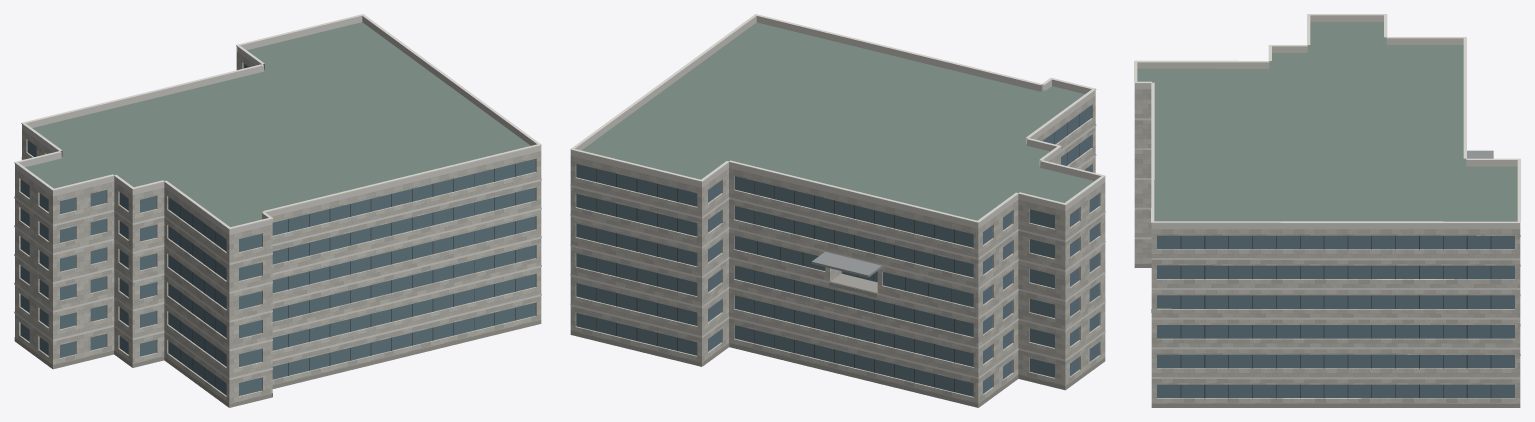
3 renders of one model, left to right at view 1: azimuth 30°, elevation 25°; view 2: azimuth 150°, elevation 25°; view 3: azimuth 270°, elevation 25°, orthographic. The views are drawn at different scales.
Parts seen in each view (by area): view 1: naturalHistory__wall, naturalHistory__roof, naturalHistory__glass, naturalHistory__trim, naturalHistory__parapet, naturalHistory__base, naturalHistory__frame; view 2: naturalHistory__wall, naturalHistory__roof, naturalHistory__glass, naturalHistory__trim, naturalHistory__parapet, naturalHistory__base, naturalHistory__frame, naturalHistory__canopy; view 3: naturalHistory__roof, naturalHistory__wall, naturalHistory__glass, naturalHistory__trim, naturalHistory__parapet, naturalHistory__base, naturalHistory__frame.
Boxes of the visible parts, x1,y1,x2,y2 form: naturalHistory__wall: [15, 52, 541, 407]; naturalHistory__roof: [25, 22, 530, 227]; naturalHistory__glass: [20, 63, 535, 395]; naturalHistory__trim: [14, 14, 541, 379]; naturalHistory__parapet: [15, 16, 541, 234]; naturalHistory__base: [14, 320, 541, 407]; naturalHistory__frame: [180, 163, 515, 387]; naturalHistory__wall: [570, 96, 1105, 407]; naturalHistory__roof: [581, 22, 1094, 220]; naturalHistory__glass: [576, 105, 1099, 396]; naturalHistory__trim: [570, 14, 1105, 378]; naturalHistory__parapet: [570, 16, 1105, 228]; naturalHistory__base: [570, 273, 1105, 407]; naturalHistory__frame: [596, 114, 1079, 392]; naturalHistory__canopy: [811, 252, 882, 277]; naturalHistory__roof: [1137, 22, 1517, 398]; naturalHistory__wall: [1134, 89, 1520, 403]; naturalHistory__glass: [1157, 235, 1514, 398]; naturalHistory__trim: [1134, 14, 1520, 379]; naturalHistory__parapet: [1134, 15, 1520, 229]; naturalHistory__base: [1134, 264, 1520, 407]; naturalHistory__frame: [1180, 235, 1491, 398].
Size of the model in its own units: 54.2 by 22.42 by 42.42.
Materials: 9 (1 with a texture image).
